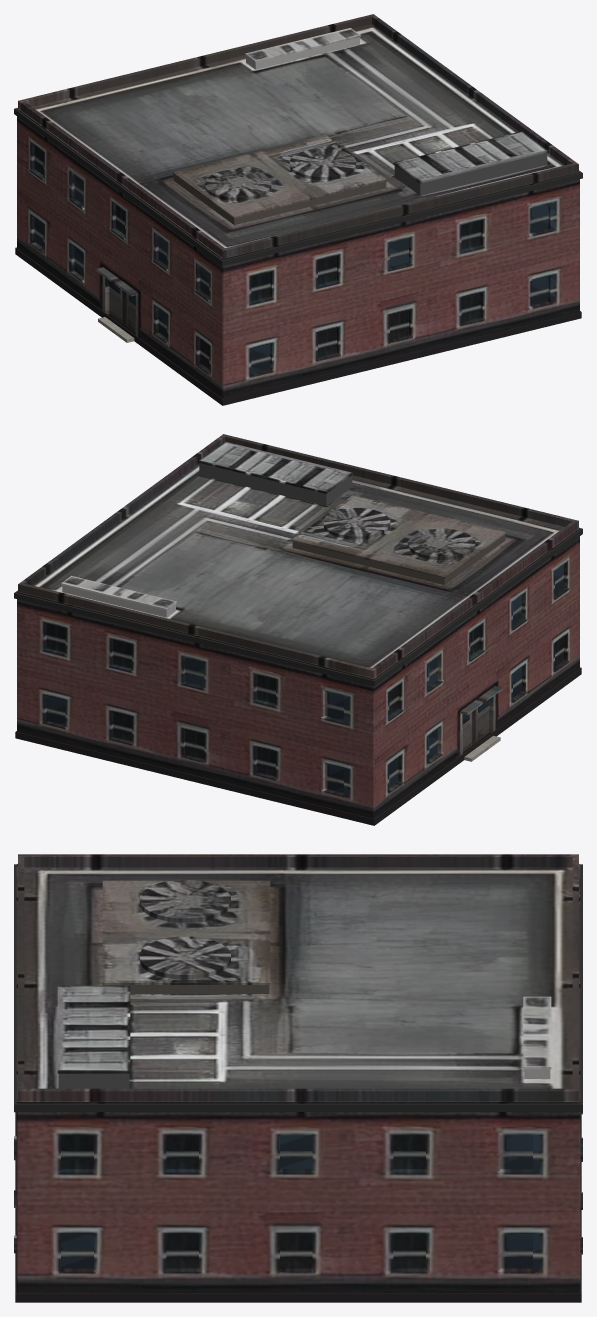
Rendered from city2storya_cad.glb.
The picture shows the model from 3 angles, top to bottom: view 1: azimuth 30°, elevation 25°; view 2: azimuth 150°, elevation 25°; view 3: azimuth 270°, elevation 25°; orthographic projection. The views are drawn at different scales.
Visible parts, largest first — view 1: City2StoryA; view 2: City2StoryA; view 3: City2StoryA.
Boxes of the visible parts, <box> form: City2StoryA: <box>14,14,582,405</box>; City2StoryA: <box>14,434,582,825</box>; City2StoryA: <box>14,854,582,1302</box>.
Bounding box in the file's own units: 18.24 × 7.63 × 17.92.
Materials: 1 (1 with a texture image).
